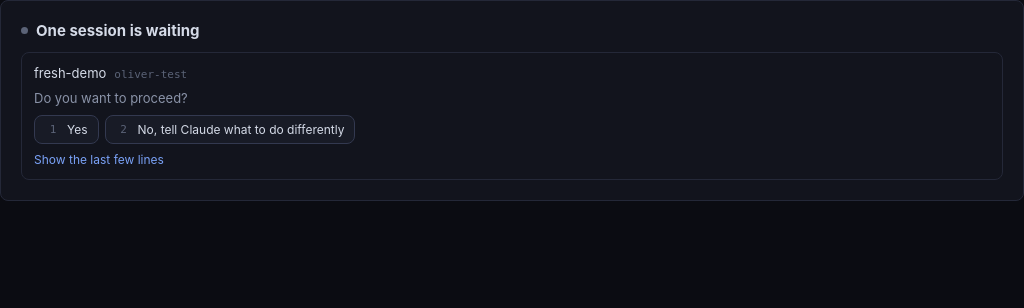
it: Attention › shows what led to the question before you answer it
Click the button "Show the last few lines": (99, 160) [34, 152, 164, 167]
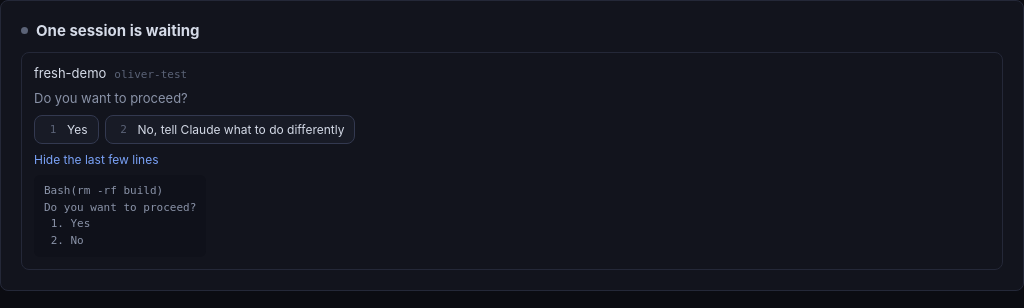
Expected: the text "Bash(rm -rf build) Do you want to proceed? 1. Yes 2. No" is shown, [34, 175, 206, 257]
